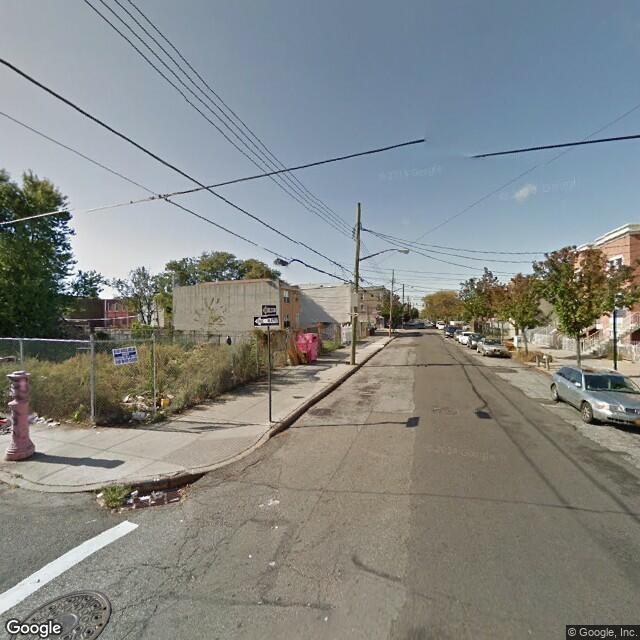litter: (28, 409, 58, 428), (129, 492, 150, 508), (130, 413, 156, 424), (94, 492, 107, 507), (111, 507, 128, 516), (1, 413, 11, 428), (73, 409, 86, 420), (268, 561, 279, 569), (153, 491, 165, 497), (321, 615, 331, 621), (272, 524, 283, 528), (247, 553, 252, 559)
